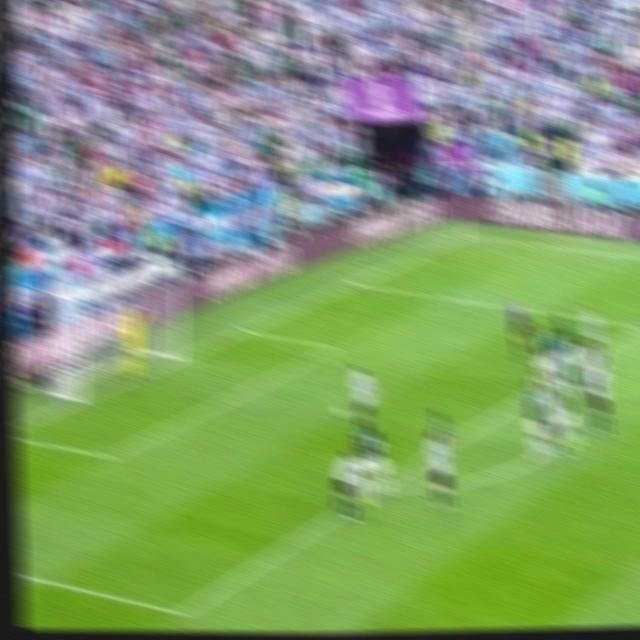bigarea_bottom_inner: (168, 595, 195, 628)
bigarea_top_inner: (633, 317, 640, 335)
bigarea_top_outter: (346, 276, 362, 289)
corner: (457, 230, 474, 240)
smallarea_bottom_inner: (96, 439, 122, 472)
smallarea_top_inner: (325, 338, 345, 356)
smallarea_top_outter: (236, 322, 254, 338)
